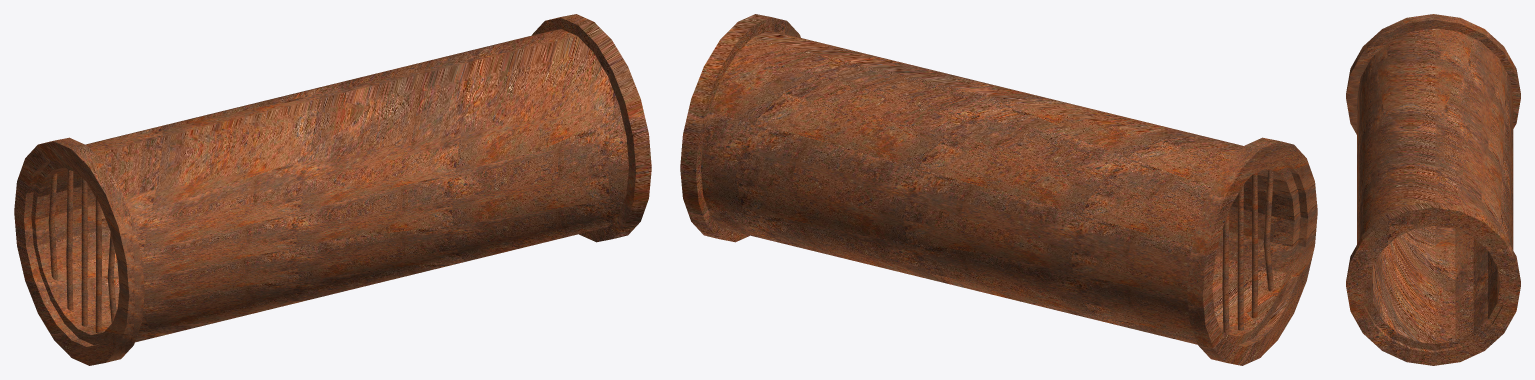
The model's file is pipe 3 c.fbx.
The picture shows the model from 3 angles, left to right: view 1: azimuth 30°, elevation 25°; view 2: azimuth 150°, elevation 25°; view 3: azimuth 270°, elevation 25°; orthographic projection. The views are drawn at different scales.
Parts seen in each view (by area): view 1: pCylinder181; view 2: pCylinder181; view 3: pCylinder181.
Boxes of the visible parts, x1,y1,x2,y2 form: pCylinder181: (14,14,651,365); pCylinder181: (680,14,1317,365); pCylinder181: (1346,14,1520,365).
Size of the model in its own units: 4588 by 1751 by 1751.
